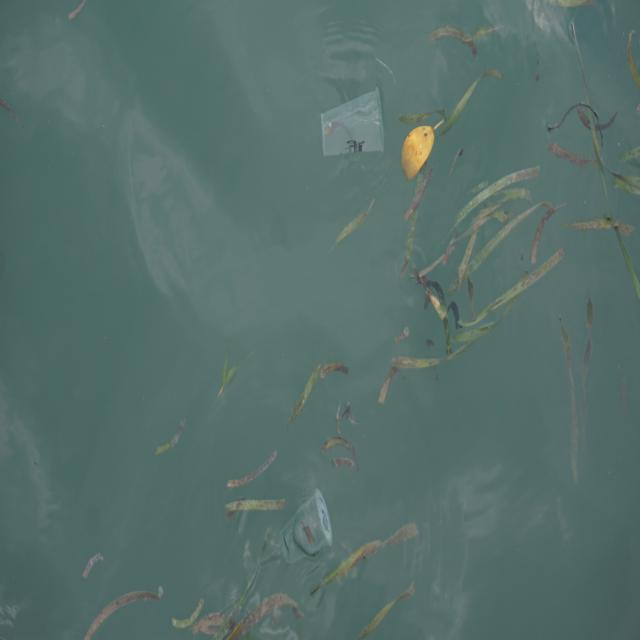Bungkus Minuman: (320, 88, 391, 164), (280, 486, 336, 566)
